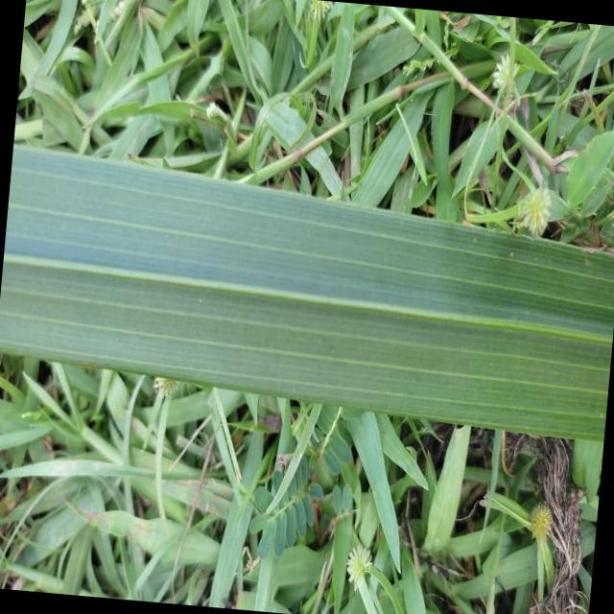Healthy: (5, 142, 614, 442)
